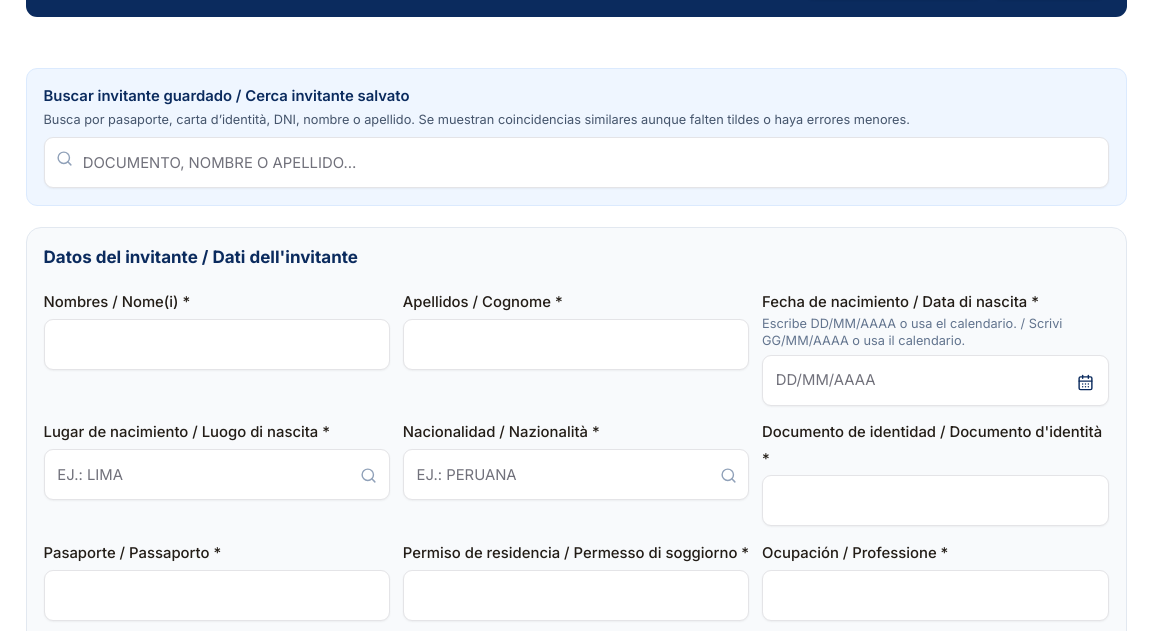
Test case: InvitationLetterWorkspace › completes inviter and invitee from fuzzy results without requiring a shipment selector
Type "sanches" into the field labelled "Buscar invitante guardado / Cerca invitante salvato" at x=576, y=163, box [44,137,1108,188]
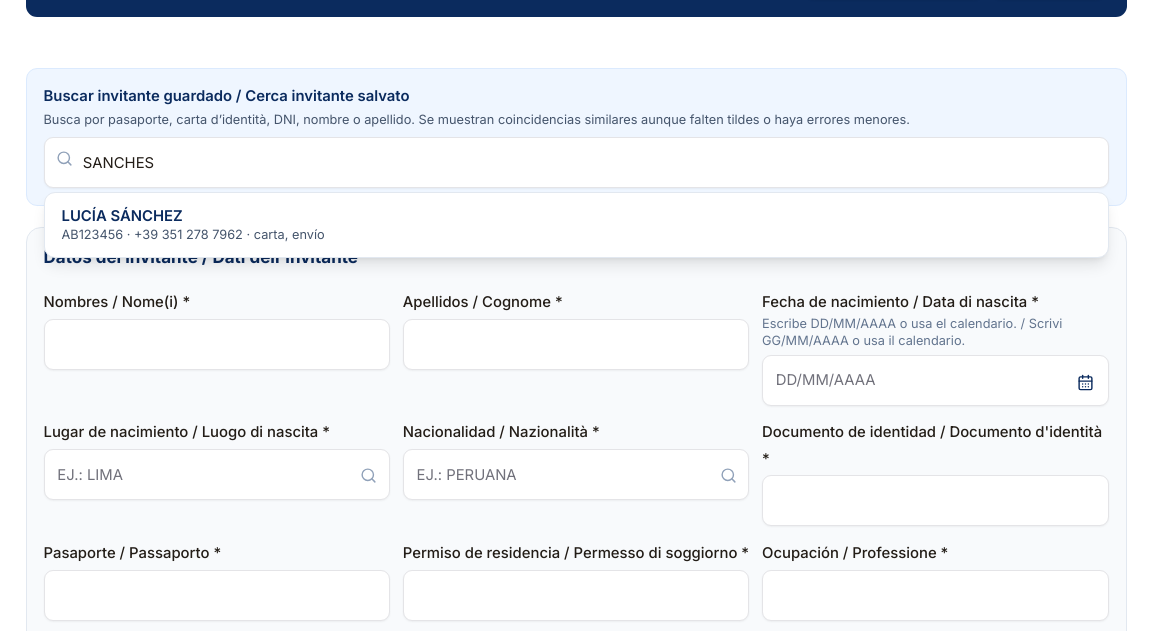
Click the text "LUCÍA SÁNCHEZ" at x=122, y=216, box [62,207,183,225]
(page scrolled)
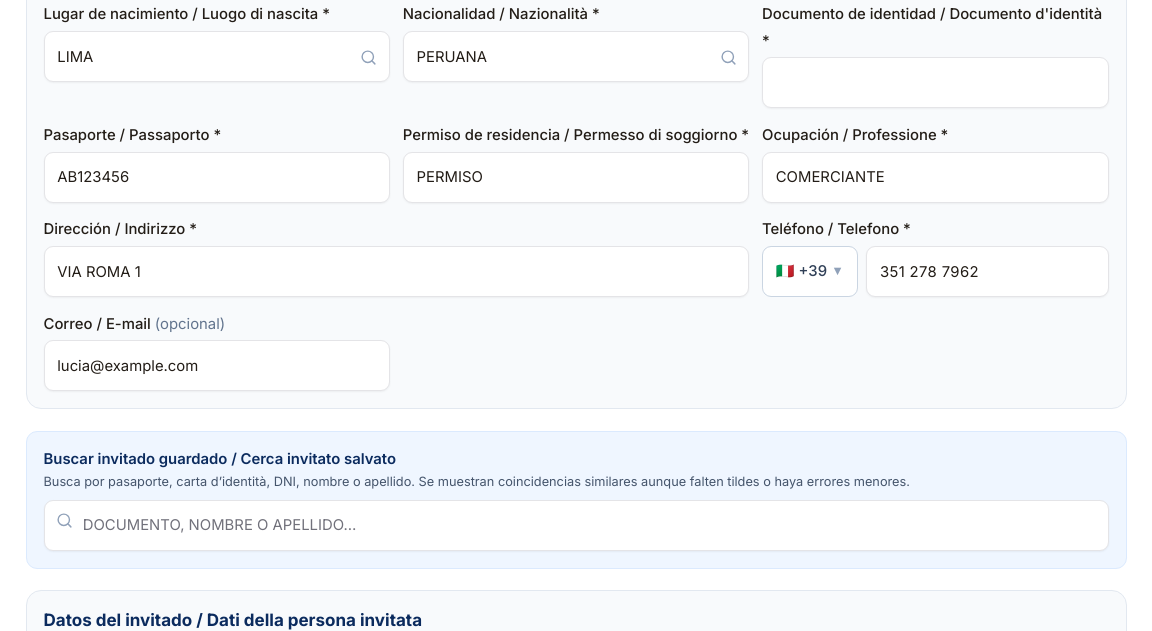
Check: the field with id "invitante-passport" holds "AB123456", box [44,152,390,203]
Check: the field with id "invitante-address" holds "VIA ROMA 1", box [44,246,749,297]
